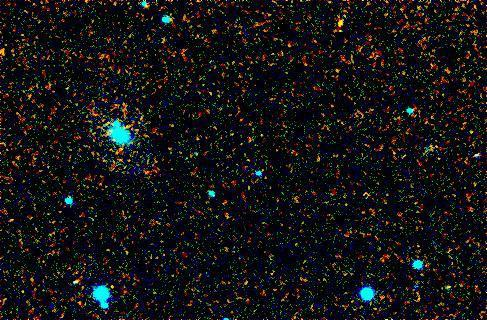star: (325, 9, 355, 39)
